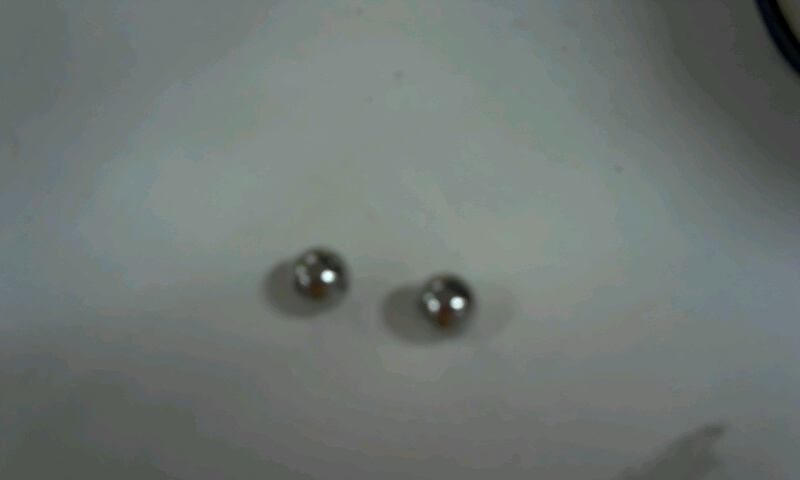steelball: (271, 239, 361, 315), (409, 262, 483, 348)
